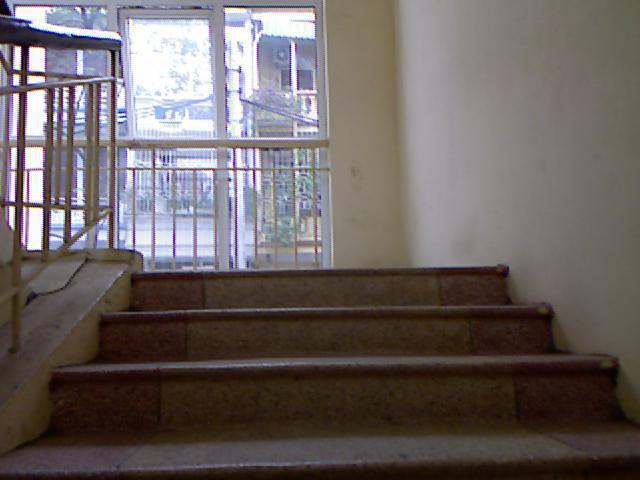Escaleras: (7, 266, 635, 471)
